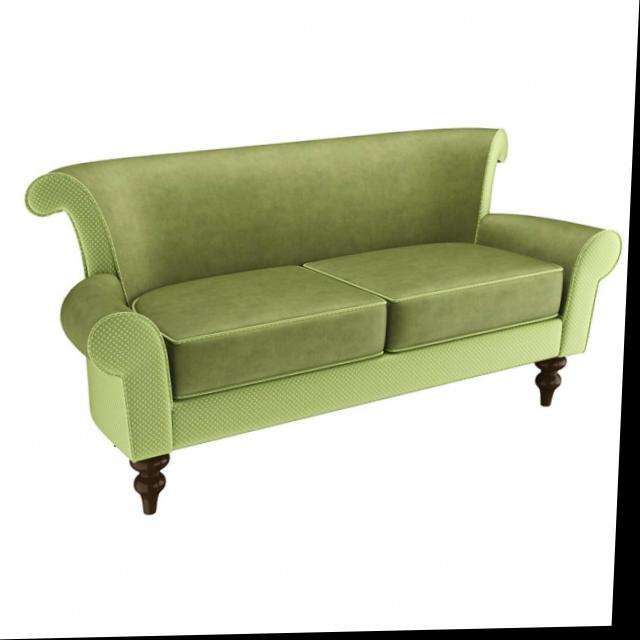Sofa: (17, 122, 630, 515)
